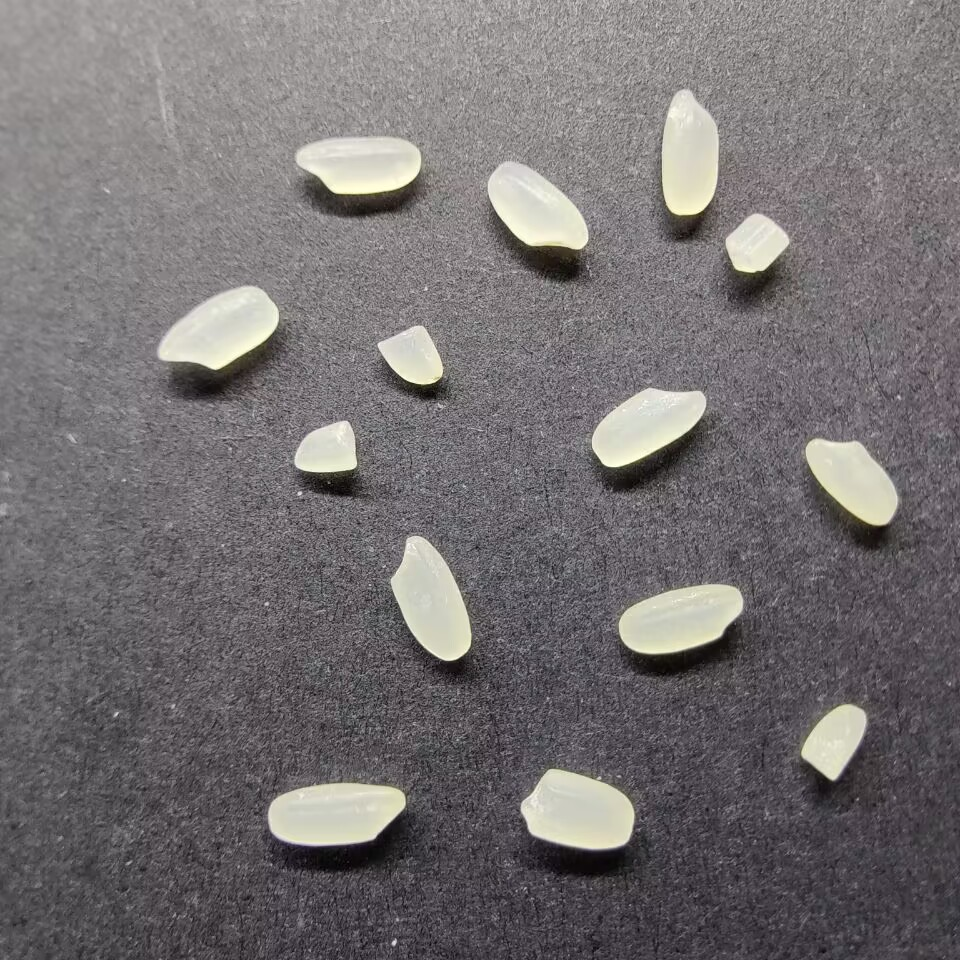broken: (799, 702, 870, 783), (374, 323, 444, 387), (723, 212, 791, 274), (290, 421, 359, 474)
rice: (388, 534, 472, 661), (154, 286, 279, 370), (588, 384, 710, 468), (518, 766, 635, 851), (615, 580, 744, 656), (265, 780, 407, 849), (486, 160, 590, 252), (804, 436, 898, 526), (660, 87, 721, 215), (294, 135, 422, 195)
